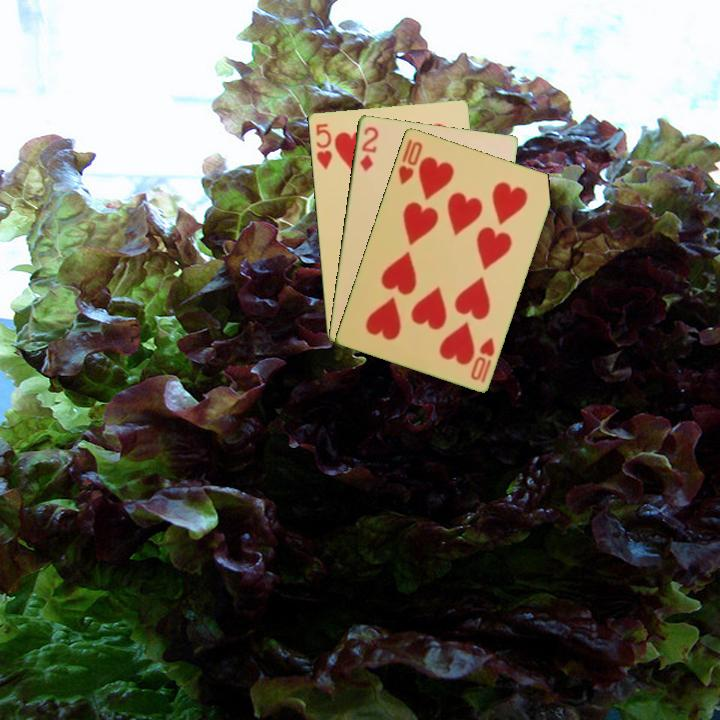10h: (395, 135, 425, 187), (467, 334, 497, 385)
2d: (356, 123, 381, 174)
5h: (312, 120, 335, 172)
